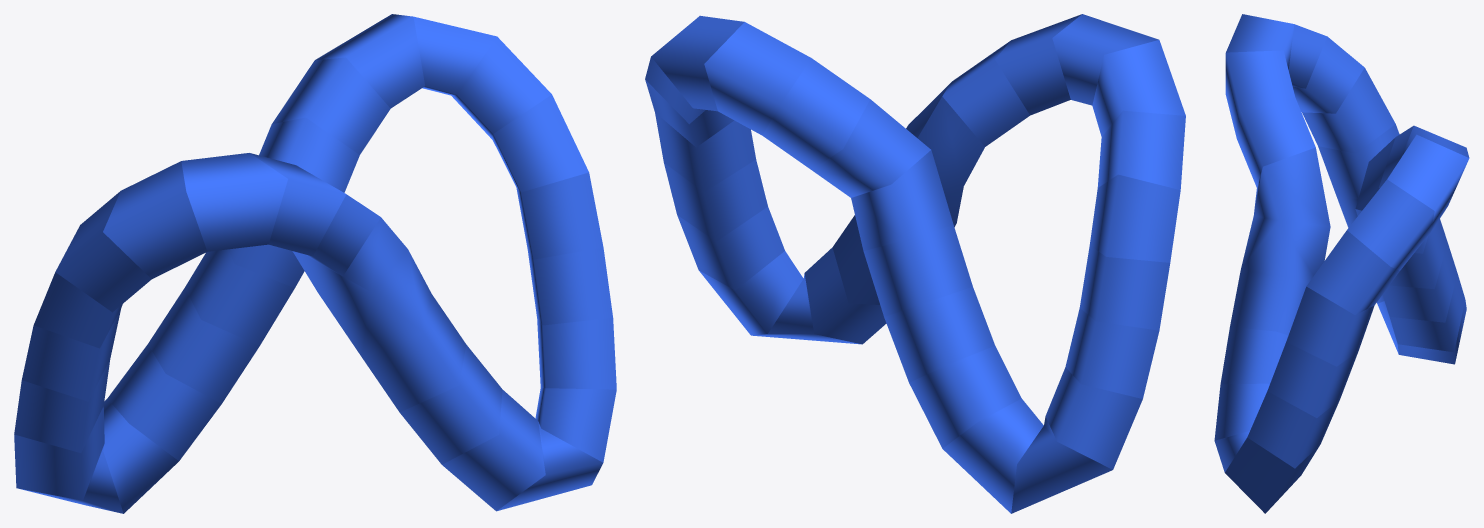
The model's file is meta.glb.
3 views of the same model, side by side, from view 1: azimuth 30°, elevation 25°; view 2: azimuth 150°, elevation 25°; view 3: azimuth 270°, elevation 25° (orthographic). The views are drawn at different scales.
Parts seen in each view (by area): view 1: Meta; view 2: Meta; view 3: Meta.
Boxes of the visible parts, left/top/right/bottom form: Meta: left=14, top=14, right=616, bottom=513; Meta: left=645, top=14, right=1185, bottom=513; Meta: left=1214, top=14, right=1469, bottom=513.
Size of the model in its own units: 0.122 by 0.0911 by 0.0598.
